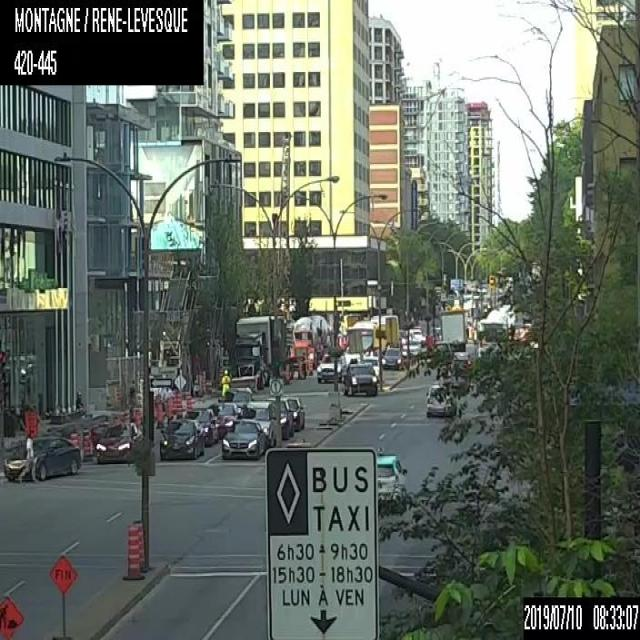bus: (346, 318, 396, 370)
construction: (50, 553, 77, 639), (124, 517, 144, 579), (0, 594, 22, 638), (24, 406, 36, 434), (82, 425, 90, 461), (155, 400, 164, 428), (174, 392, 183, 418), (165, 396, 172, 422), (71, 429, 80, 446), (283, 362, 290, 382), (185, 392, 192, 409), (308, 358, 314, 374), (467, 325, 472, 340), (472, 328, 477, 341)
pedestrian: (16, 428, 36, 481), (220, 367, 230, 393), (74, 390, 82, 418)
vehicle: (229, 314, 286, 387), (2, 432, 81, 480), (96, 421, 142, 464), (158, 418, 204, 460), (478, 308, 514, 359), (242, 400, 280, 448), (222, 418, 267, 458), (292, 316, 328, 365), (376, 454, 406, 508), (341, 356, 377, 394), (184, 406, 219, 445), (217, 386, 255, 417), (440, 308, 466, 352), (265, 397, 293, 437), (423, 382, 453, 415), (316, 351, 346, 382), (208, 402, 237, 432), (282, 396, 304, 430), (449, 352, 471, 375), (380, 347, 403, 369), (402, 338, 421, 357), (404, 327, 424, 345)
